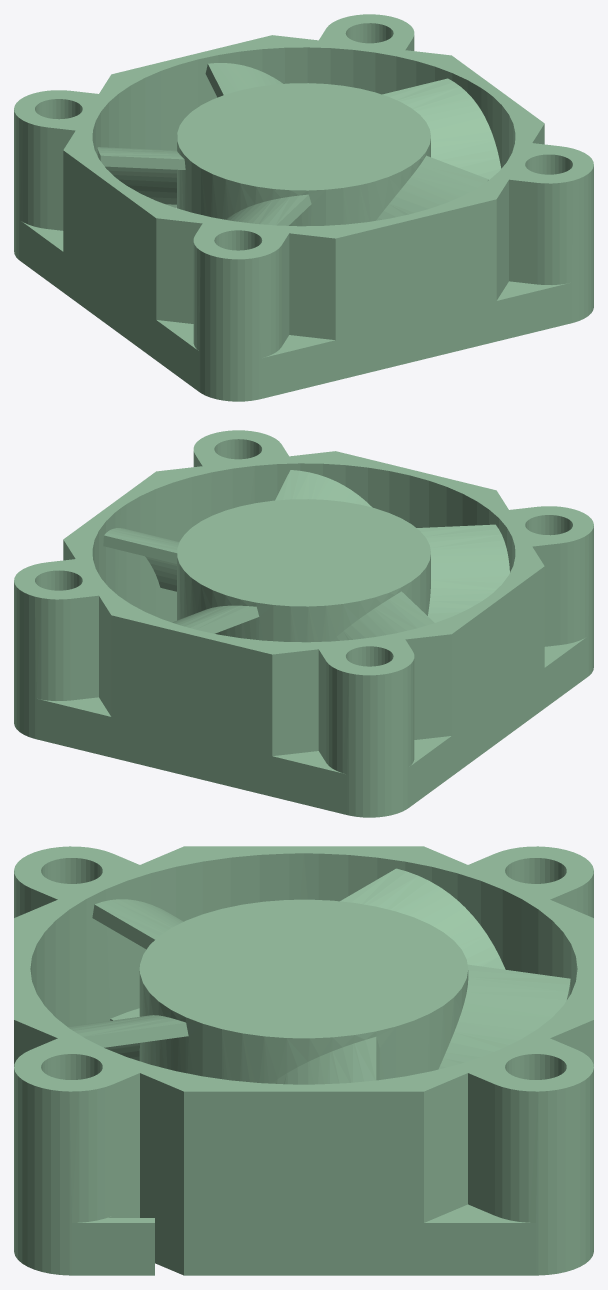
File: case-04_lib00008.glb
The picture shows the model from 3 angles, top to bottom: view 1: azimuth 30°, elevation 25°; view 2: azimuth 150°, elevation 25°; view 3: azimuth 270°, elevation 25°; orthographic projection. The views are drawn at different scales.
Visible parts, largest first — view 1: lib00008; view 2: lib00008; view 3: lib00008.
Part boxes in pixels (box(x1,y1,x2,y2)): lib00008: box(14, 14, 593, 401); lib00008: box(14, 430, 593, 817); lib00008: box(14, 846, 593, 1275).
Bounding box in the file's own units: 30 × 10.5 × 30.
